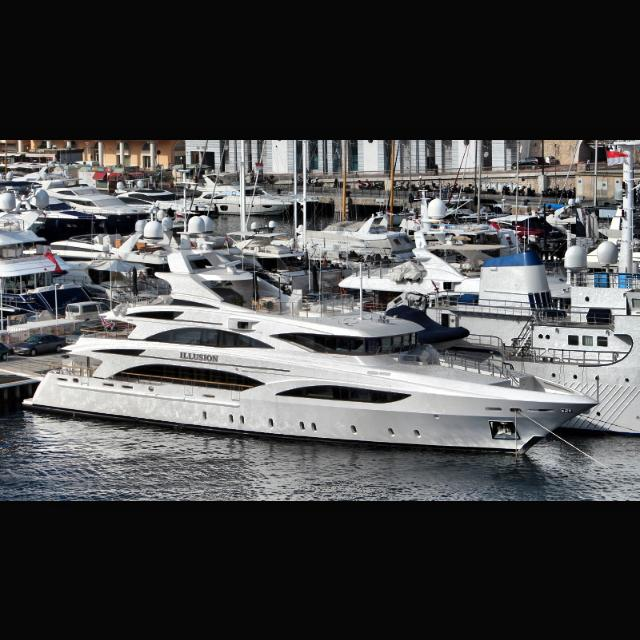yacht: (20, 201, 602, 457)
